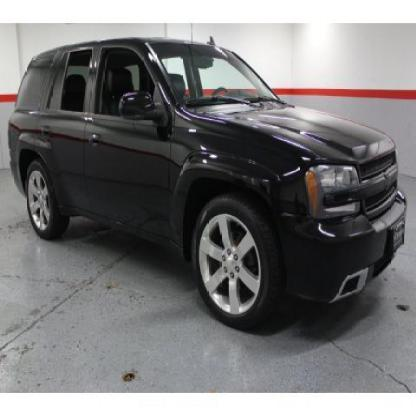Vehicle: (8, 24, 410, 339)
